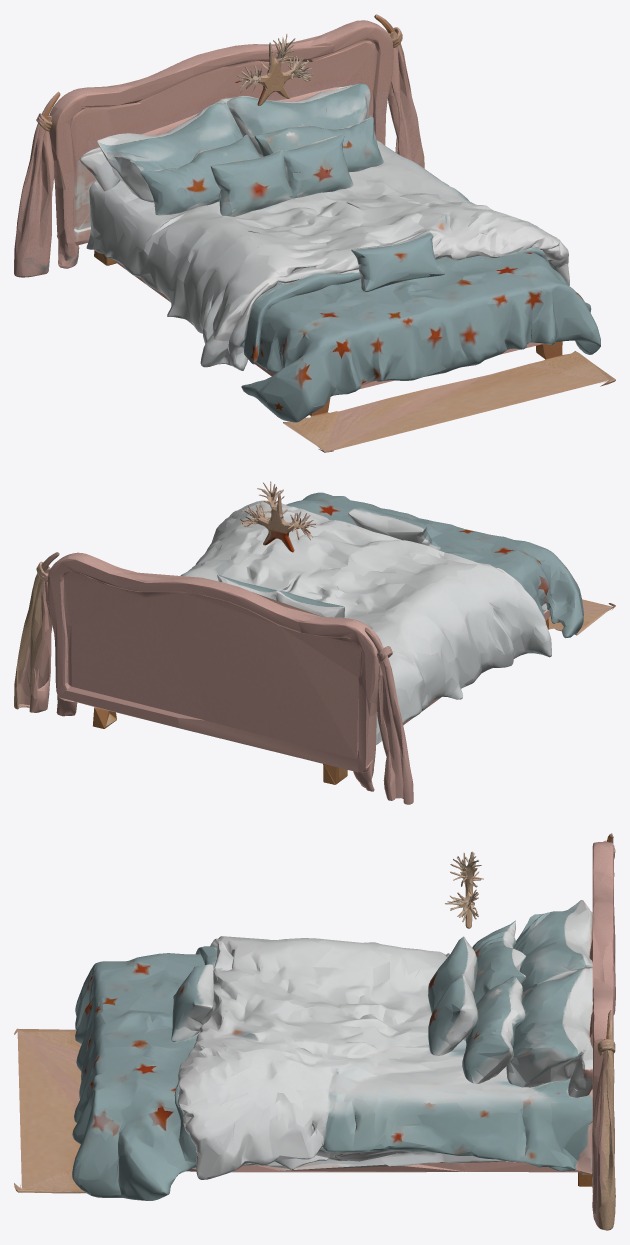
File: cozy-starlight-bedroom-v1.glb
The picture shows the model from 3 angles, top to bottom: view 1: azimuth 30°, elevation 25°; view 2: azimuth 150°, elevation 25°; view 3: azimuth 270°, elevation 25°; orthographic projection. The views are drawn at different scales.
Bounding box in the file's own units: 1.7 × 0.9231 × 1.9.
1 material, 1 textured.
